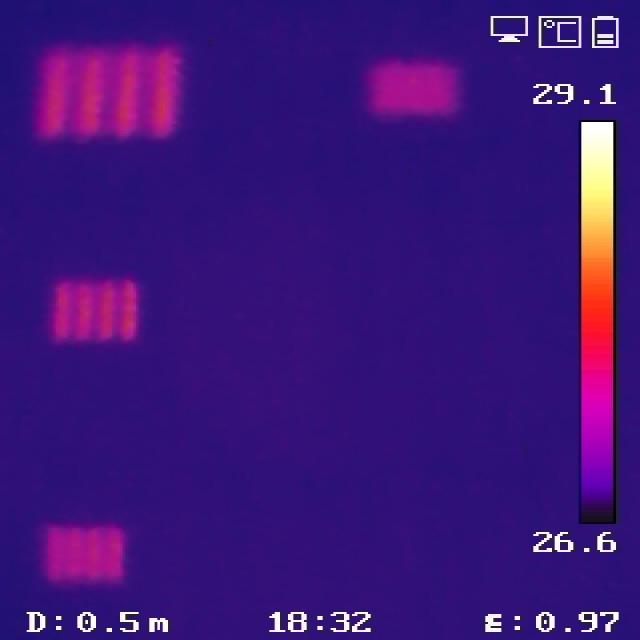Distinguishable 4-bar target: (35, 44, 181, 139)
Indistinguishable 4-bar target: (369, 57, 459, 111)
threshold 4-bar target: (52, 278, 143, 338), (44, 524, 123, 582)
